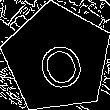O_NW: (27, 26, 87, 91)
